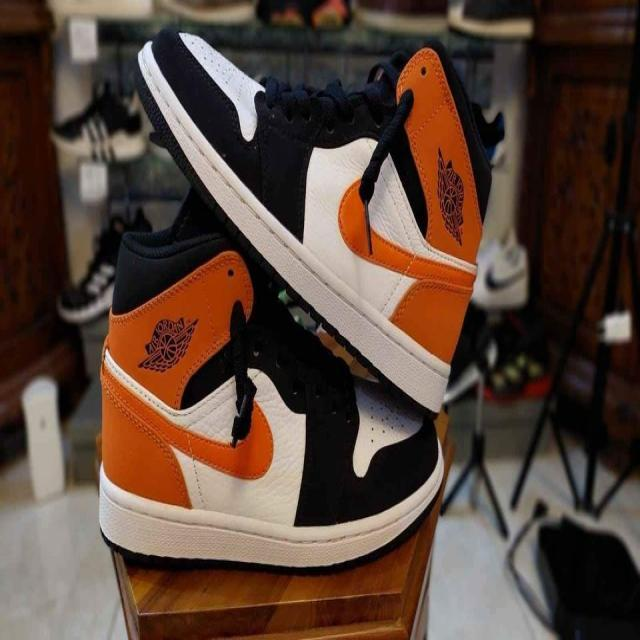nike original jordan 1: (134, 22, 506, 417), (96, 219, 451, 572)
